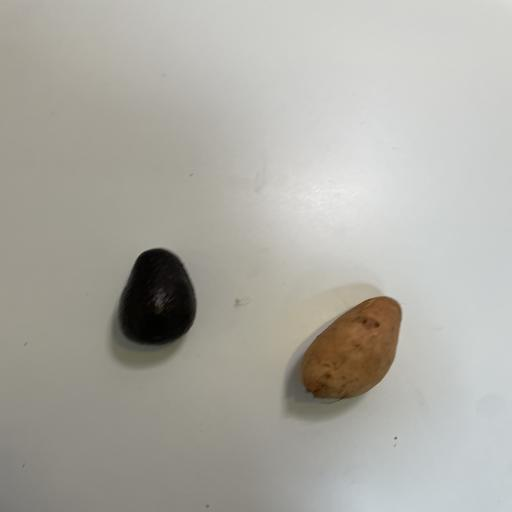avocado: (112, 246, 200, 348)
sweet_potato: (292, 292, 410, 404)
